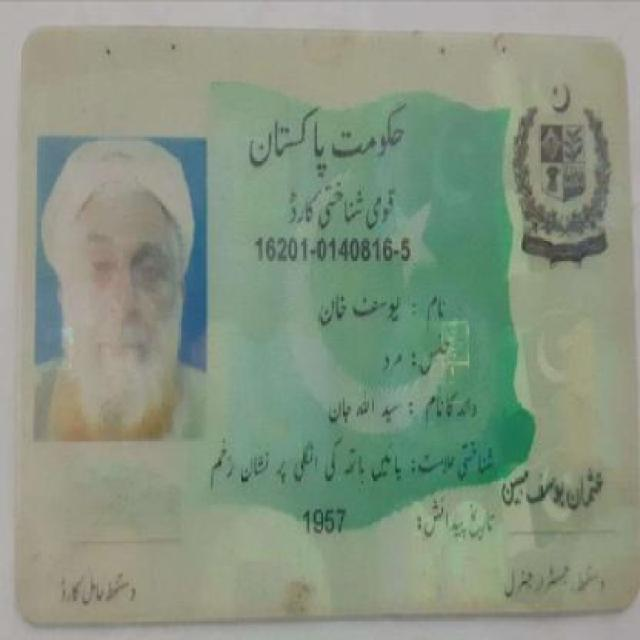Front: (17, 18, 634, 617)
